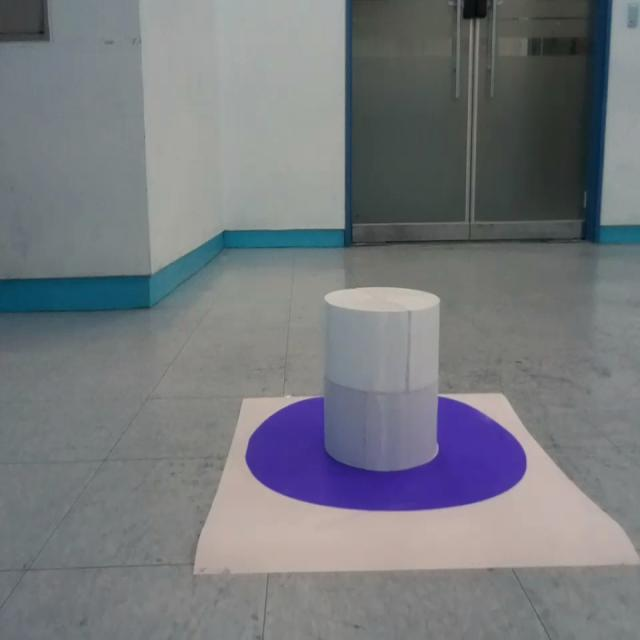cylinder: (323, 286, 441, 471)
